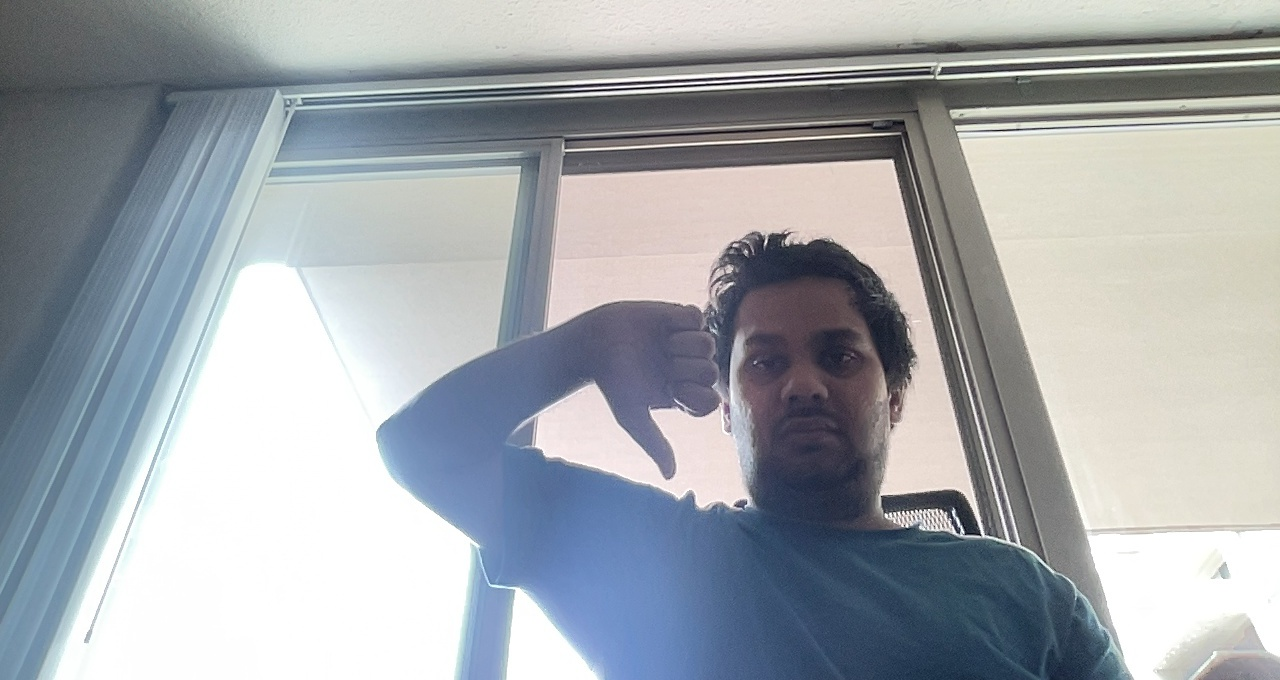thumbsdown: (586, 293, 725, 479)
